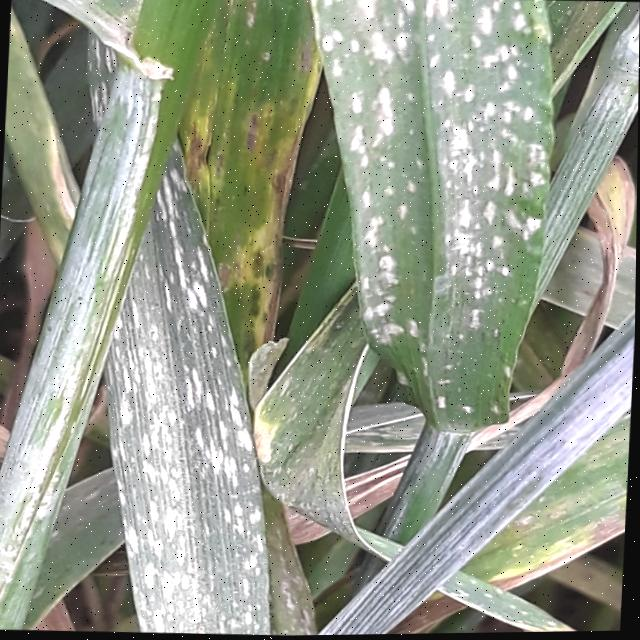powder_mildew: (0, 0, 366, 640), (354, 0, 640, 457), (344, 452, 630, 636)
